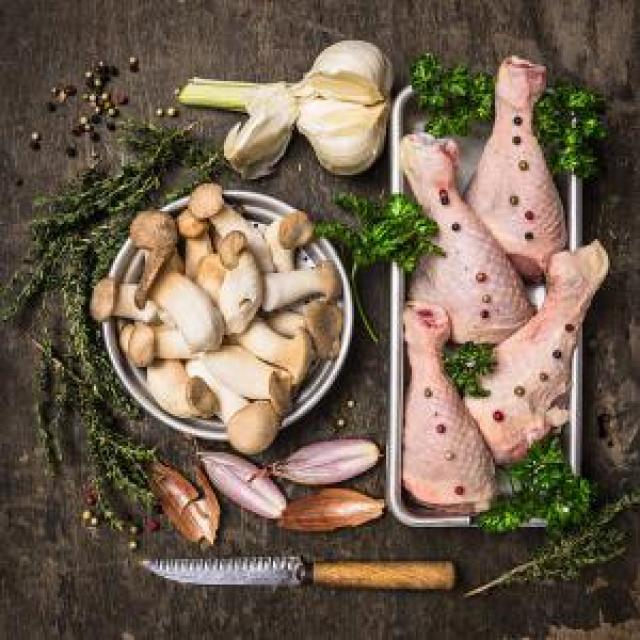knife: (141, 553, 460, 593)
